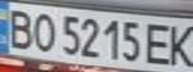1: (100, 16, 124, 61)
2: (78, 15, 103, 60)
5: (54, 12, 84, 56), (118, 18, 145, 64)
B: (3, 6, 36, 49)
E: (142, 19, 175, 66)
K: (166, 20, 193, 70)
O: (27, 9, 60, 54)
